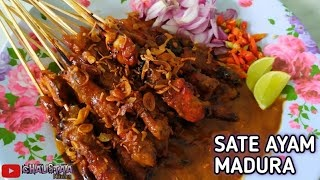sate_madura: (1, 11, 235, 180)
